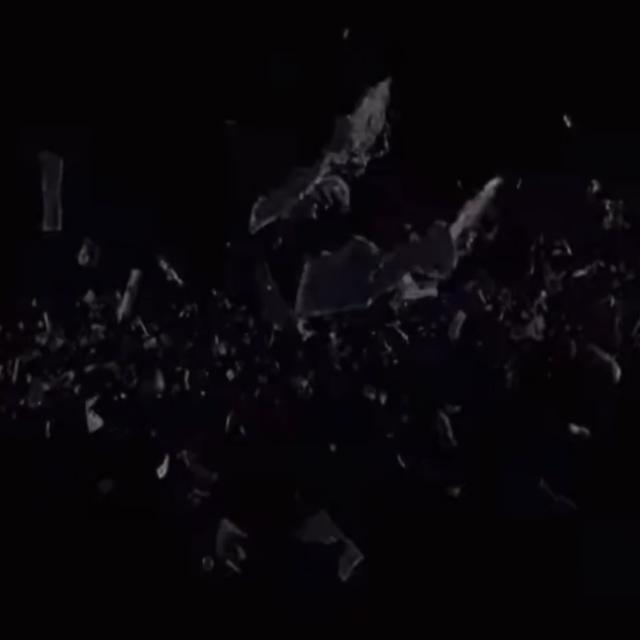large_debris: (286, 169, 514, 343), (232, 55, 414, 236), (300, 492, 379, 587), (186, 507, 266, 591), (146, 433, 230, 501), (28, 135, 72, 245)
